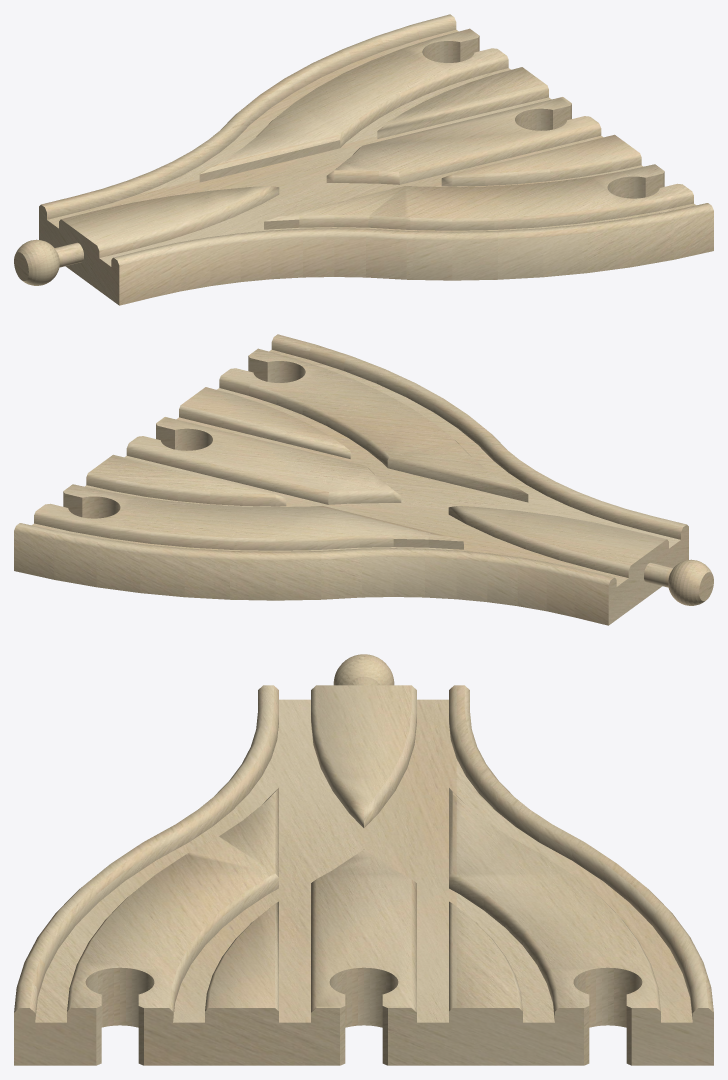
3 renders of one model, top to bottom at view 1: azimuth 30°, elevation 25°; view 2: azimuth 150°, elevation 25°; view 3: azimuth 270°, elevation 25°, orthographic. The views are drawn at different scales.
Visible parts, largest first — view 1: SketchUp, _3d_peg; view 2: SketchUp, _3d_peg; view 3: SketchUp, _3d_peg.
Boxes of the visible parts, bbox=[...] form: SketchUp: bbox=[39, 14, 713, 305]; _3d_peg: bbox=[14, 239, 83, 285]; SketchUp: bbox=[14, 334, 688, 625]; _3d_peg: bbox=[644, 559, 713, 605]; SketchUp: bbox=[14, 685, 713, 1065]; _3d_peg: bbox=[333, 654, 394, 685].
Size of the model in its own units: 6.32 by 5.2 by 0.4823.
